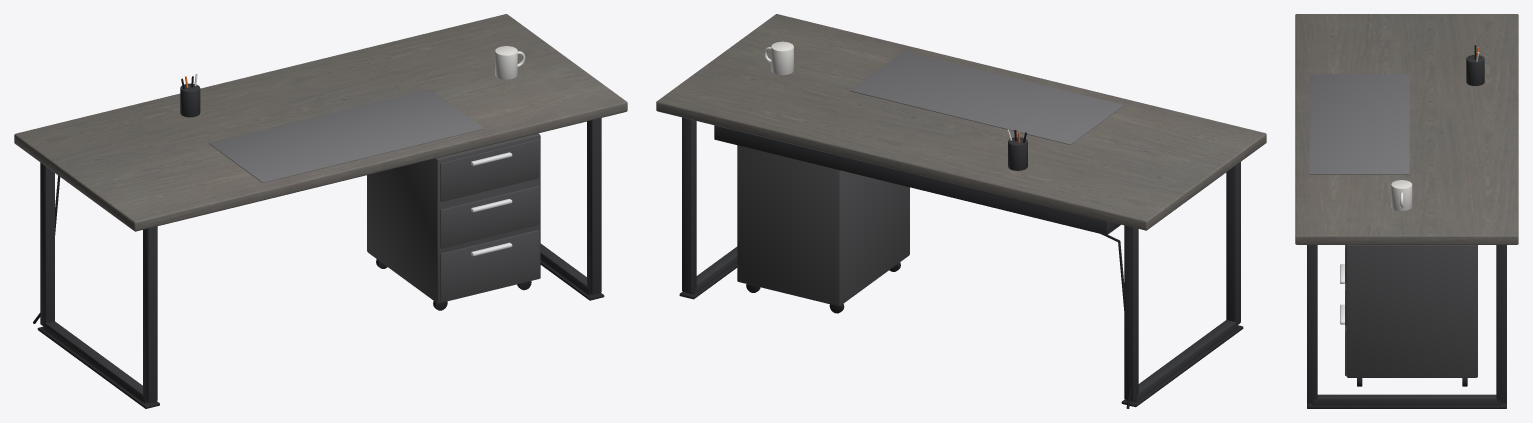
File: scrivania.glb
3 renders of one model, left to right at view 1: azimuth 30°, elevation 25°; view 2: azimuth 150°, elevation 25°; view 3: azimuth 270°, elevation 25°, orthographic. The views are drawn at different scales.
Visible parts, largest first — view 1: scrivania; view 2: scrivania; view 3: scrivania.
Boxes of the visible parts, bbox=[...] form: scrivania: bbox=[14, 14, 627, 408]; scrivania: bbox=[656, 14, 1266, 408]; scrivania: bbox=[1295, 14, 1518, 408].
Size of the model in its own units: 2 by 0.9009 by 0.85.
Materials: 10 (1 with a texture image).
